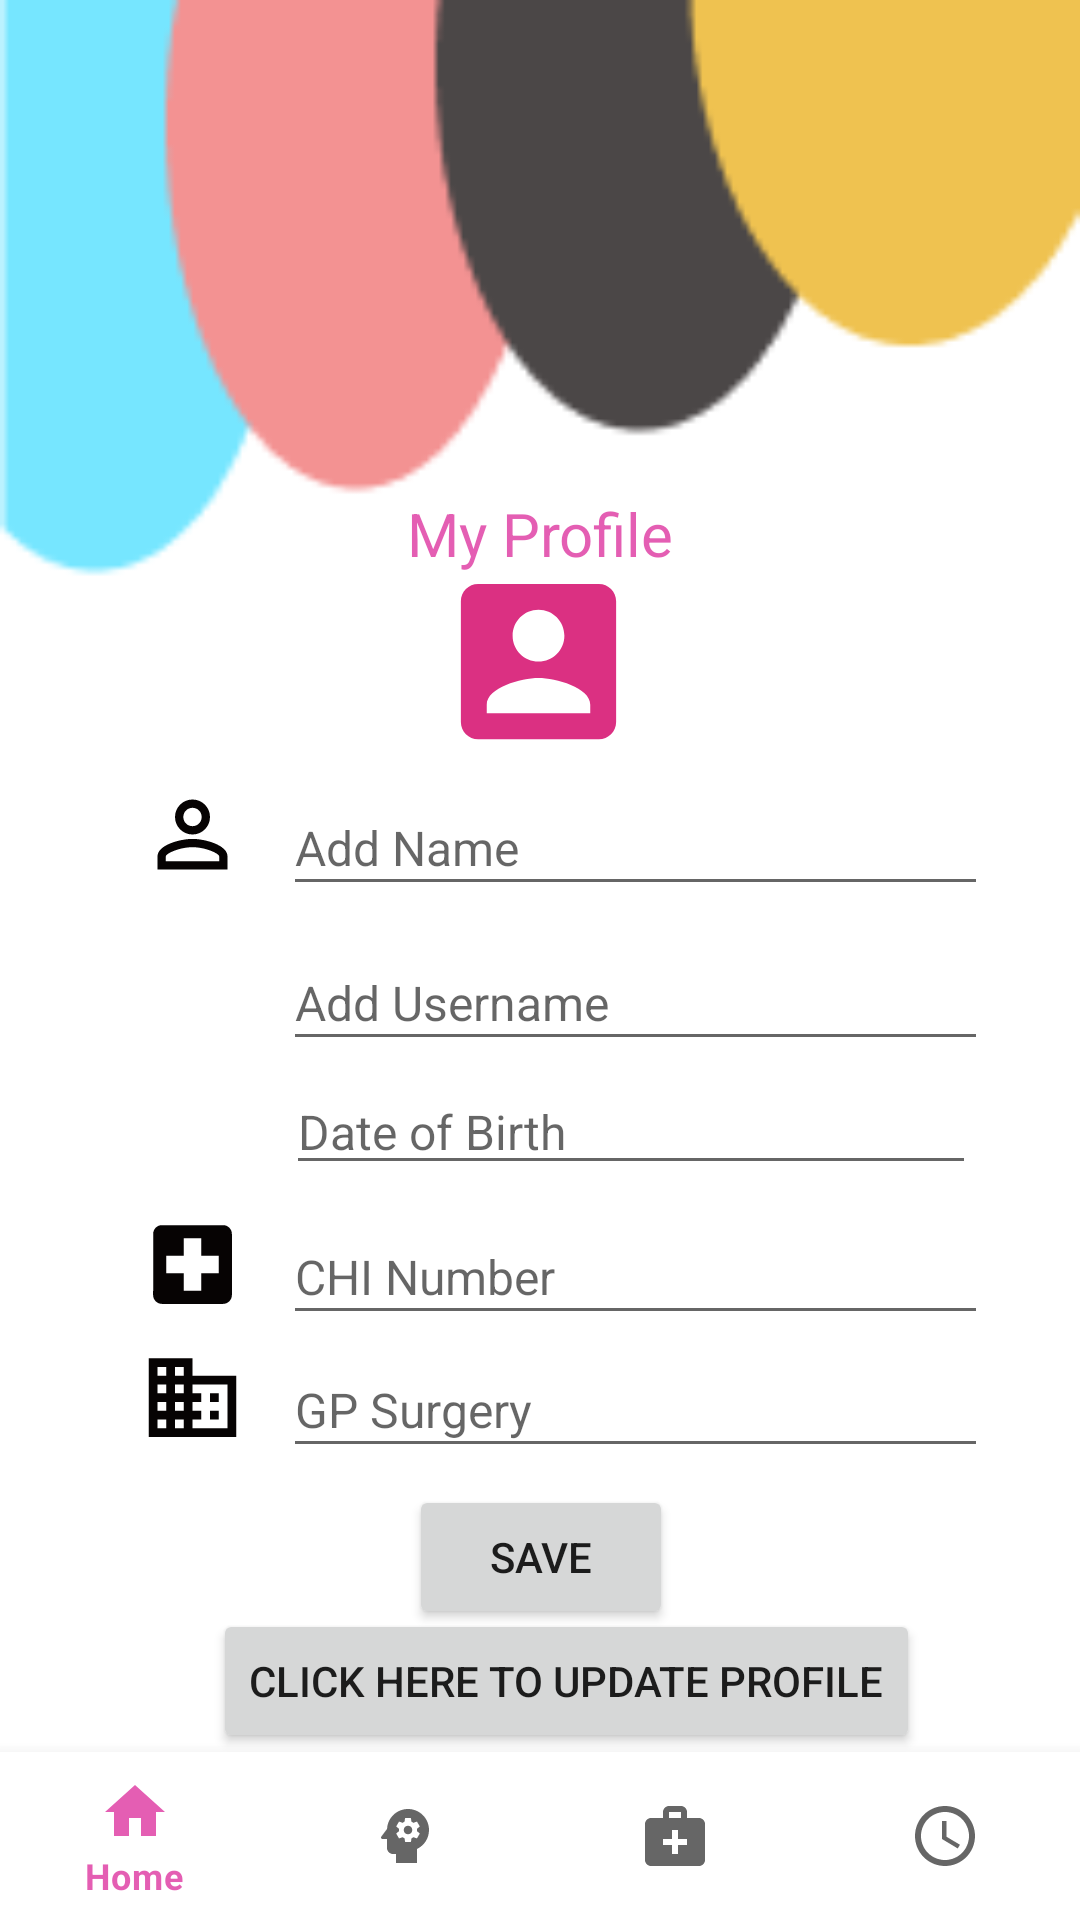

Icon bounding boxes for this 1080 x 1920 phone screenshot, format (x1, y1, x2, y2):
account box: (460, 584, 617, 740)
business: (148, 1358, 237, 1437)
local hospital: (153, 1225, 232, 1304)
person: (157, 799, 228, 870)
